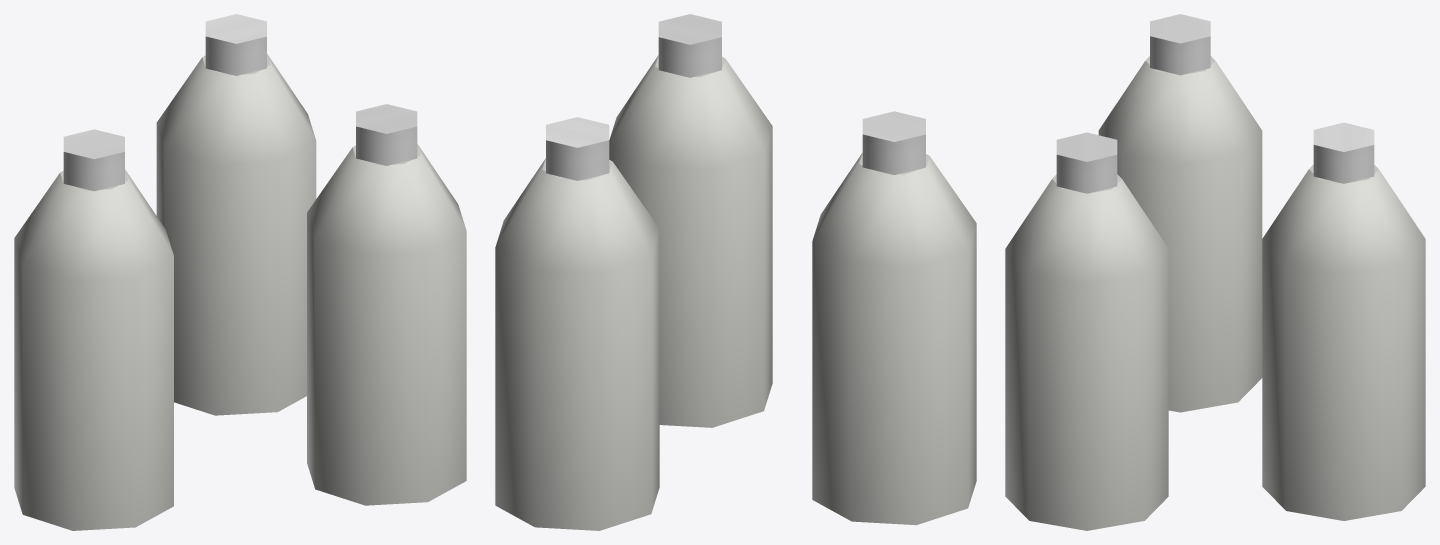
Rendered from food_milk.obj.
3 renders of one model, left to right at view 1: azimuth 30°, elevation 25°; view 2: azimuth 150°, elevation 25°; view 3: azimuth 270°, elevation 25°, orthographic. The views are drawn at different scales.
Visible parts, largest first — view 1: part_050_milk, part_000_milk, part_025_milk; view 2: part_025_milk, part_000_milk, part_050_milk; view 3: part_025_milk, part_050_milk, part_000_milk.
Boxes of the visible parts, x1,y1,x2,y2 form: part_050_milk: (307,104,466,505); part_000_milk: (14,129,173,530); part_025_milk: (156,14,316,415); part_025_milk: (495,117,659,530); part_000_milk: (812,111,976,525); part_050_milk: (609,14,772,427); part_025_milk: (1262,122,1425,520); part_050_milk: (1005,132,1168,530); part_000_milk: (1098,14,1262,412).
Size of the model in its own units: 0.38 by 0.33 by 0.36.
